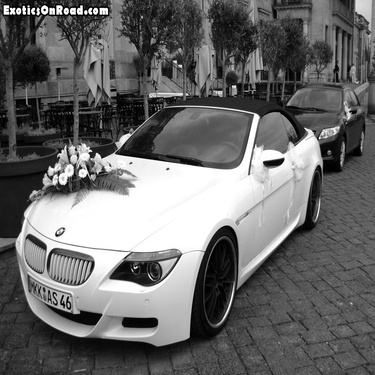car: (10, 90, 330, 355), (275, 76, 368, 178)
